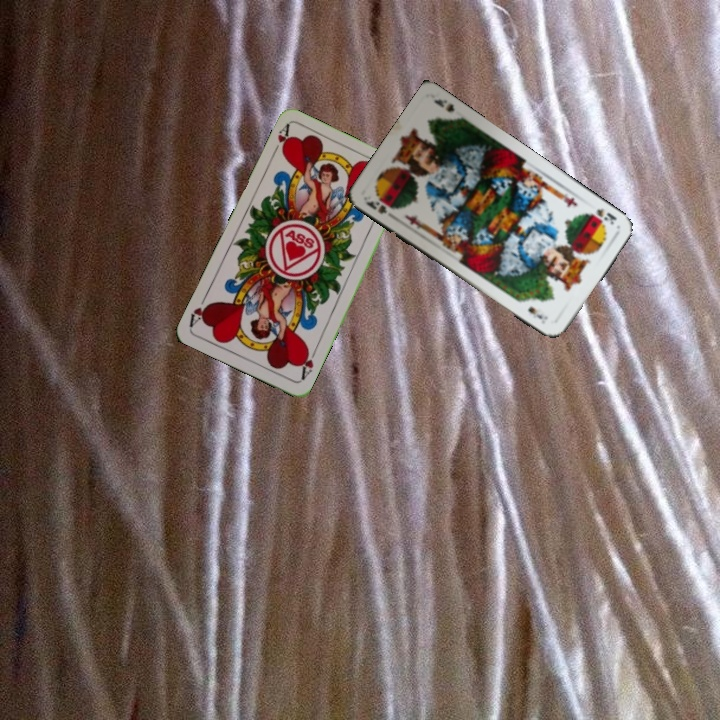HA: (267, 121, 294, 159), (296, 344, 319, 383)
SK: (362, 195, 397, 221), (592, 204, 619, 227)
